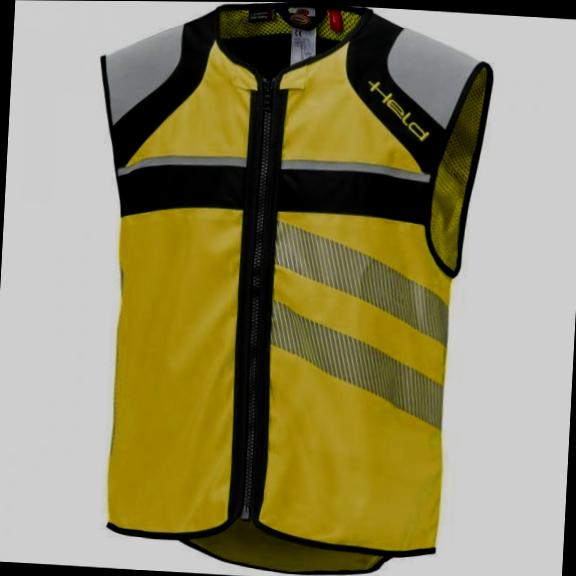safety_vest: (71, 1, 495, 576)
